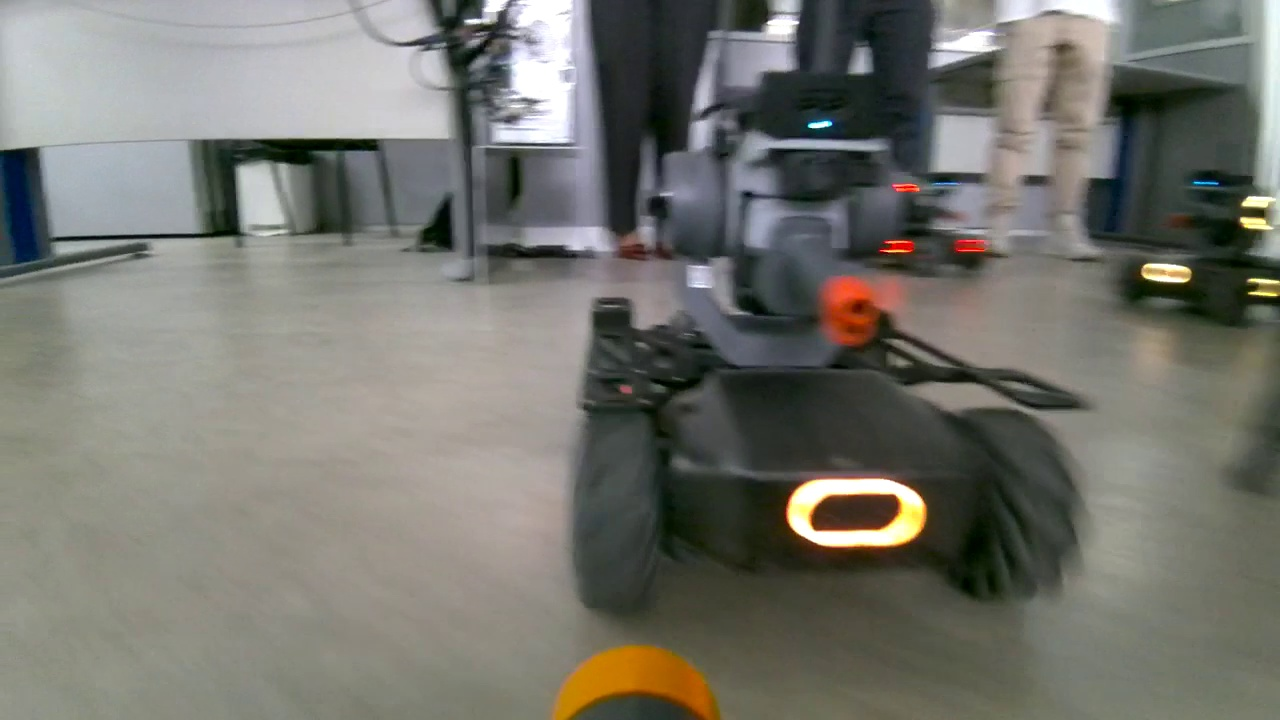robot: (562, 6, 1095, 635), (1119, 163, 1280, 317)
